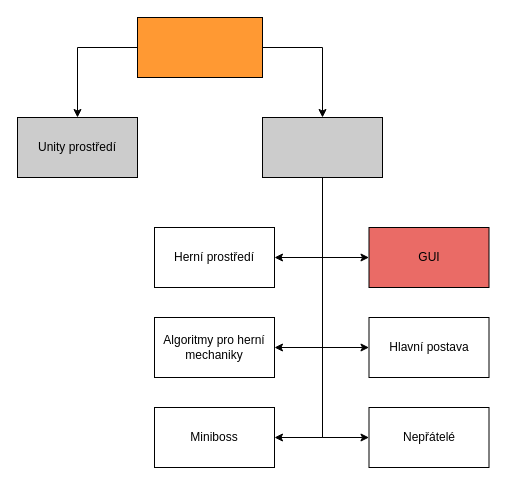
This 507x485 diagram has some shape labels left out. The shapes that lost their labels are listed below. From the top down, each one's centre as x and y in pixels, then its label:
point 199,47: Inner Shadows
point 322,147: Implementace
